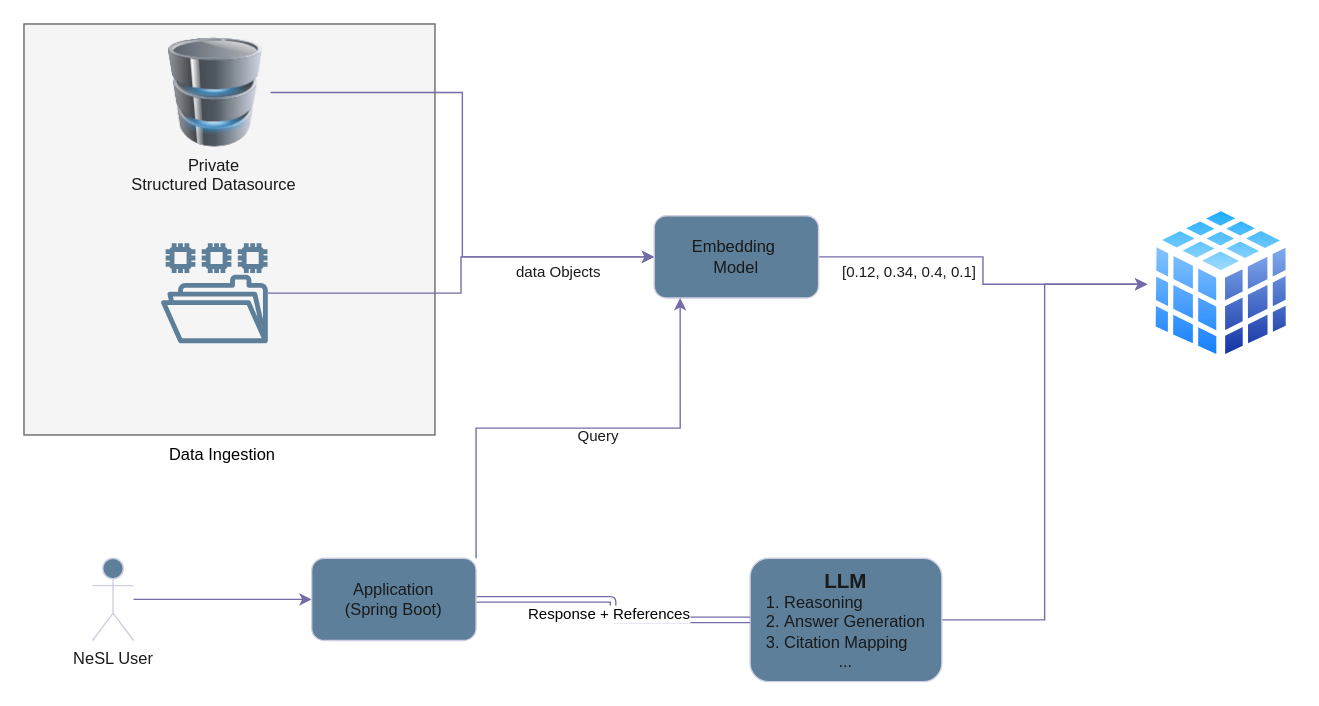
Image size: 1319x706. Some labels were removed from this diagram. Here are the shapes that lost their labels. From the top down, the box of each, then its label:
(160, 242, 267, 342): Private Content (Unstructured)
(1147, 201, 1295, 366): Vector + Metadata Database
